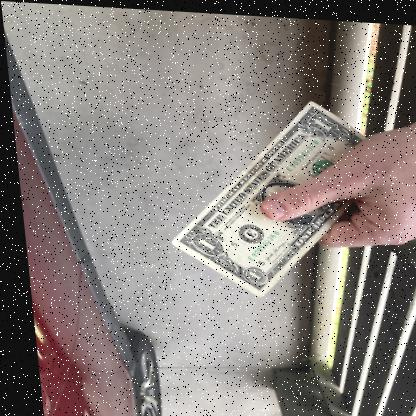one-front: (162, 90, 372, 293)
